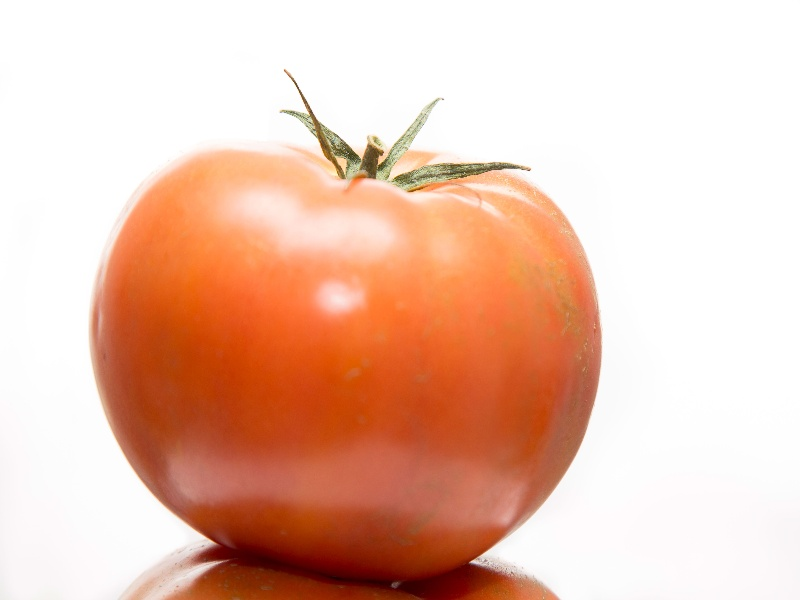Tomate: (87, 144, 605, 585)
